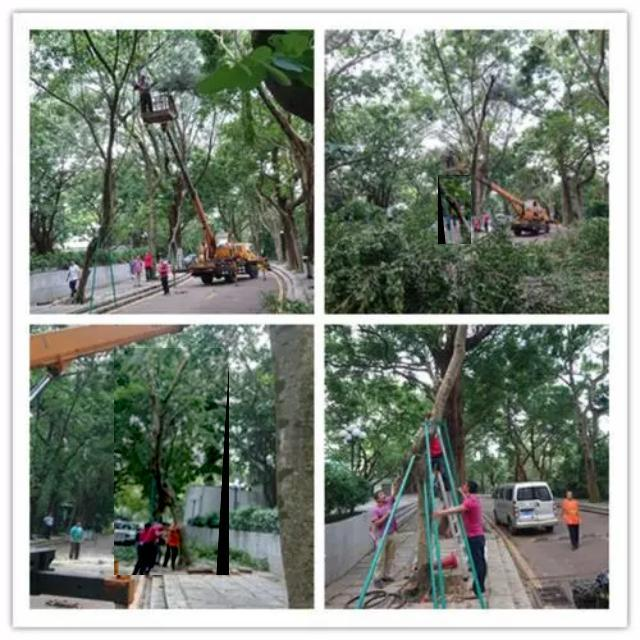fallen_tree: (114, 348, 230, 576), (438, 175, 472, 245)
